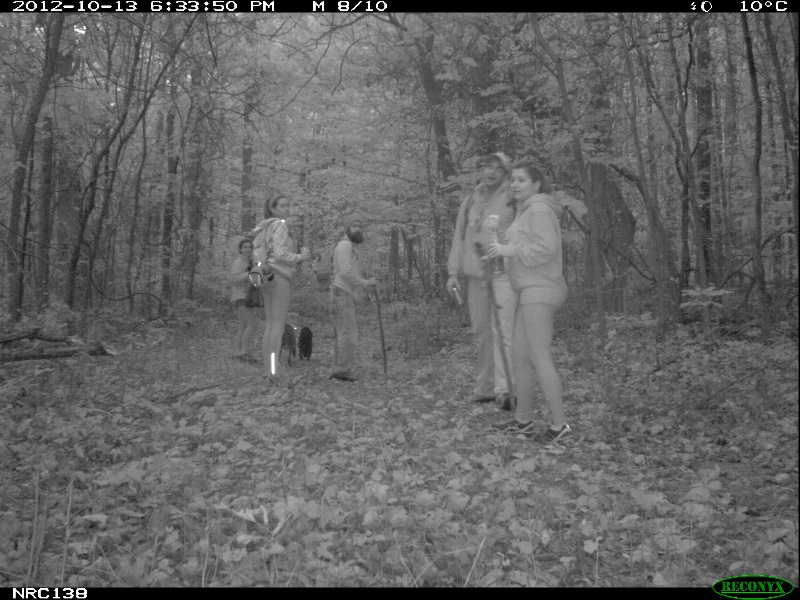dog: (275, 319, 297, 364), (299, 325, 312, 360)
human: (494, 160, 581, 448), (447, 151, 522, 409), (258, 194, 300, 387), (326, 208, 365, 380), (224, 237, 258, 364)
human face: (512, 164, 538, 199), (481, 156, 508, 187), (267, 194, 292, 222), (347, 214, 364, 241), (238, 237, 255, 260)
human legs: (509, 284, 577, 448), (466, 278, 522, 415), (256, 266, 292, 390), (324, 287, 365, 382), (229, 289, 255, 364)
